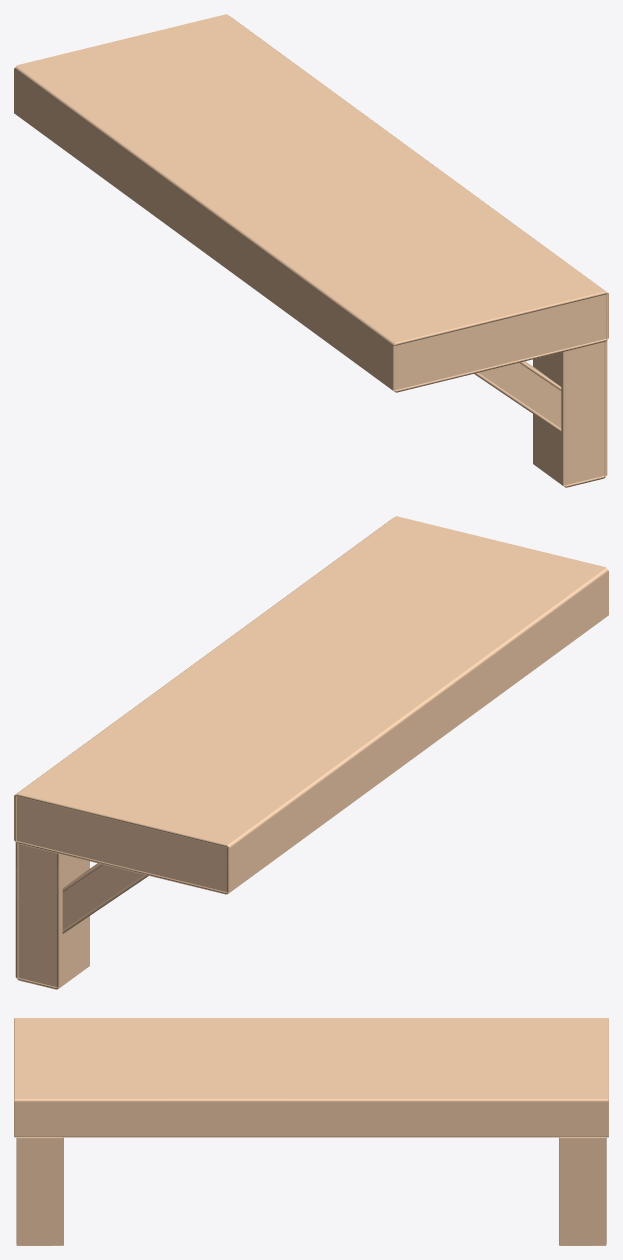
File: repisa.fbx
3 views of the same model, one above another, from view 1: azimuth 30°, elevation 25°; view 2: azimuth 150°, elevation 25°; view 3: azimuth 270°, elevation 25° (orthographic). The views are drawn at different scales.
Visible parts, largest first — view 1: Hang shelf.001; view 2: Hang shelf.001; view 3: Hang shelf.001.
Boxes of the visible parts, box(x1,y1,x2,y2) form: Hang shelf.001: box(14, 14, 608, 487); Hang shelf.001: box(14, 516, 608, 989); Hang shelf.001: box(14, 1018, 608, 1245).
Bounding box in the file's own units: 66.79 × 55.62 × 203.
